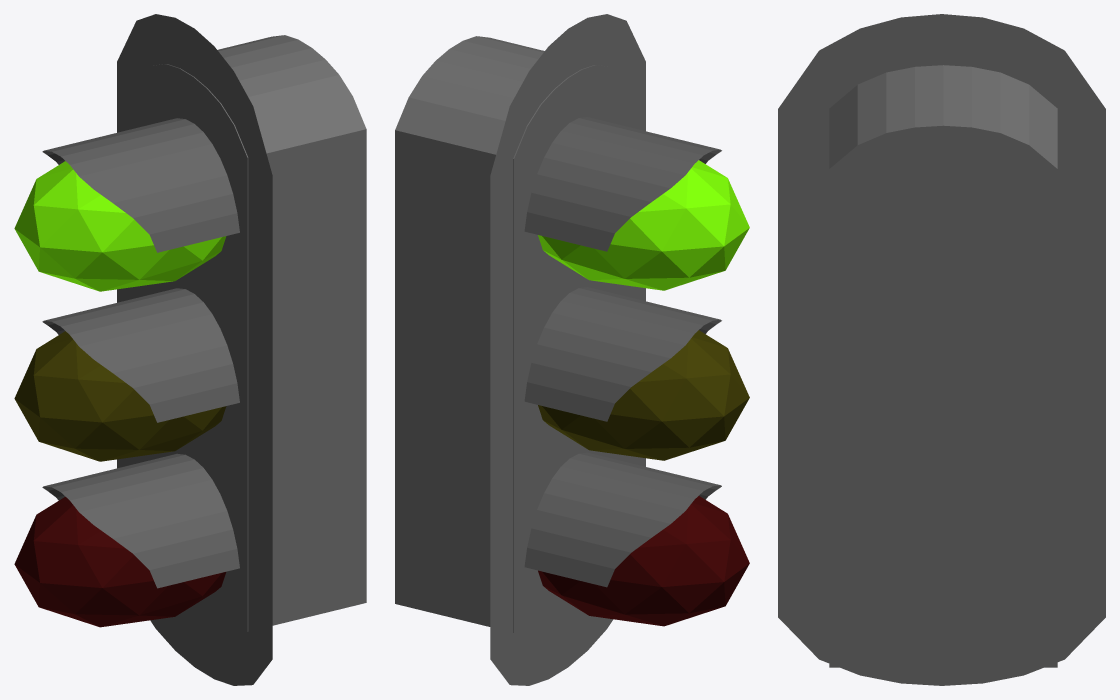
Rendered from three-aspect-head.dae.
3 views of the same model, side by side, from view 1: azimuth 30°, elevation 25°; view 2: azimuth 150°, elevation 25°; view 3: azimuth 270°, elevation 25° (orthographic). The views are drawn at different scales.
Parts seen in each view (by area): view 1: Cube_023, Plane, Cylinder_005, Cylinder_003, Cylinder_004, Icosphere_001, Icosphere_000, Icosphere_002; view 2: Cube_023, Plane, Cylinder_005, Cylinder_003, Cylinder_004, Icosphere_002, Icosphere_000, Icosphere_001; view 3: Cube_023, Plane.
Boxes of the visible parts, x1,y1,x2,y2 form: Cube_023: (139,35,366,631); Plane: (117,14,272,685); Cylinder_005: (42,453,239,588); Cylinder_003: (42,118,239,252); Cylinder_004: (42,288,239,422); Icosphere_001: (14,161,226,291); Icosphere_000: (14,331,226,461); Icosphere_002: (14,496,226,627); Cube_023: (395,36,622,632); Plane: (490,14,645,685); Cylinder_005: (524,452,721,587); Cylinder_003: (524,117,721,251); Cylinder_004: (524,287,721,421); Icosphere_002: (538,496,749,626); Icosphere_000: (538,330,749,460); Icosphere_001: (538,160,749,290); Cube_023: (829,65,1057,667); Plane: (778,14,1105,685).
Size of the model in its own units: 0.6083 by 0.5732 by 1.3.
